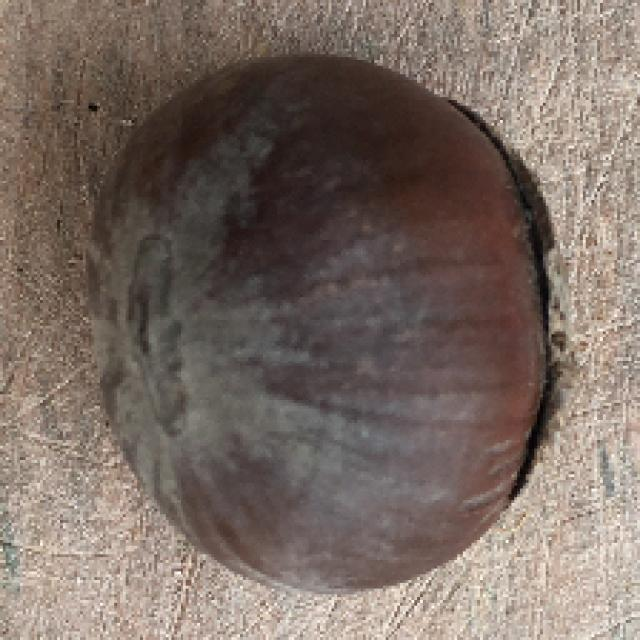DamagedHazelnut: (79, 52, 570, 593)
